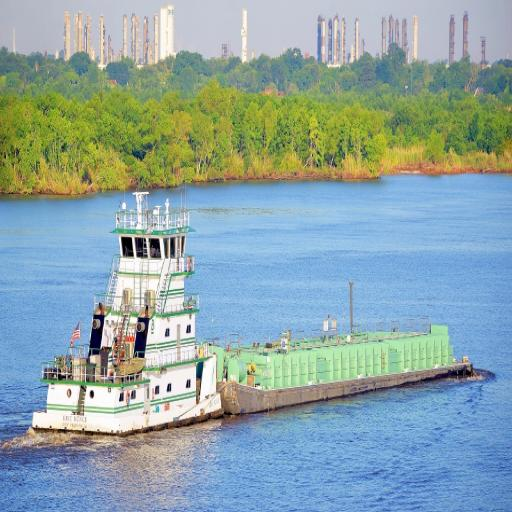tugboat: (31, 166, 244, 447)
